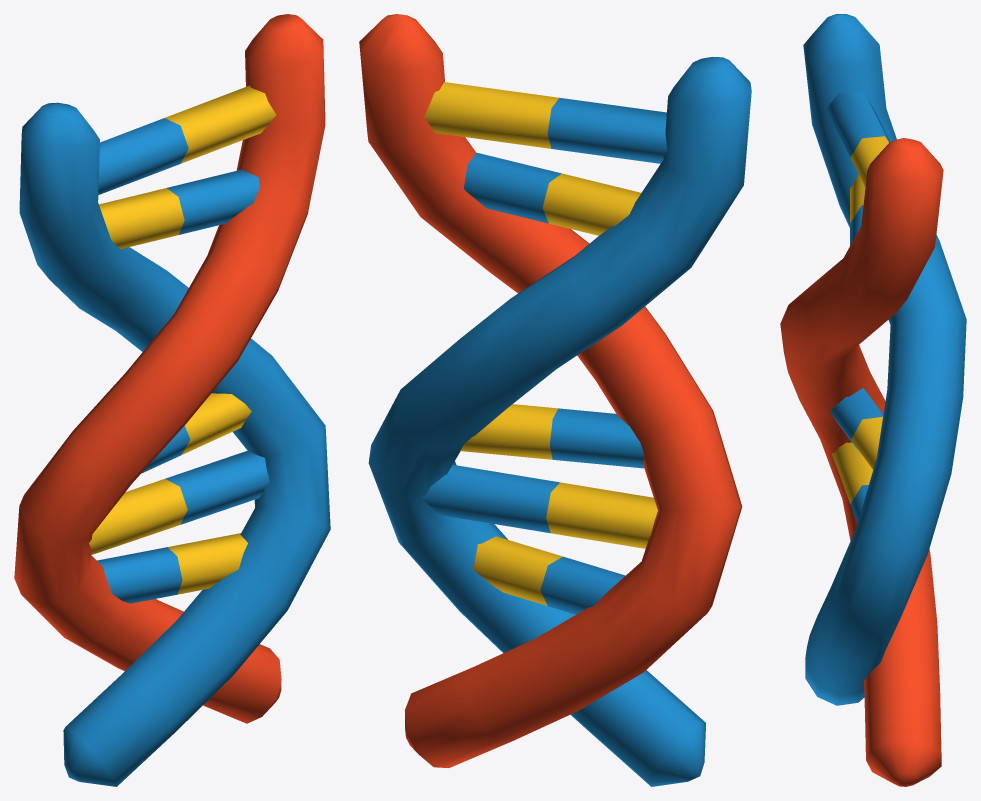
The model's file is DNA.fbx.
The picture shows the model from 3 angles, left to right: view 1: azimuth 30°, elevation 25°; view 2: azimuth 150°, elevation 25°; view 3: azimuth 270°, elevation 25°; orthographic projection. The views are drawn at different scales.
Visible parts, largest first — view 1: Cylinder.006; view 2: Cylinder.006; view 3: Cylinder.006.
Part boxes in pixels (left/top/right/bottom): Cylinder.006: left=14, top=14, right=330, bottom=786; Cylinder.006: left=359, top=14, right=751, bottom=786; Cylinder.006: left=780, top=14, right=966, bottom=786.
Bounding box in the file's own units: 108 × 220 × 55.86.
Materials: 1 (1 with a texture image).
